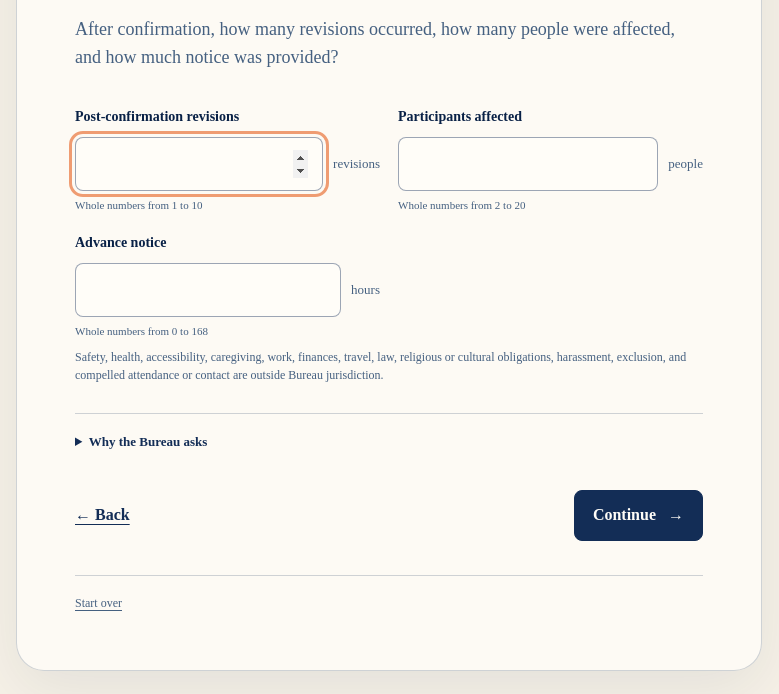
it: filing journey › shows exact whole-number ranges for Social Planning evidence
(page scrolled)
Expected: the text "Whole numbers from 0 to 168" is shown, left=75, top=325, right=208, bottom=337
Type "0.5" into the number field labelled "Advance notice hours Whole numbers from 0 to 168" at [208, 290], box left=75, top=263, right=341, bottom=317
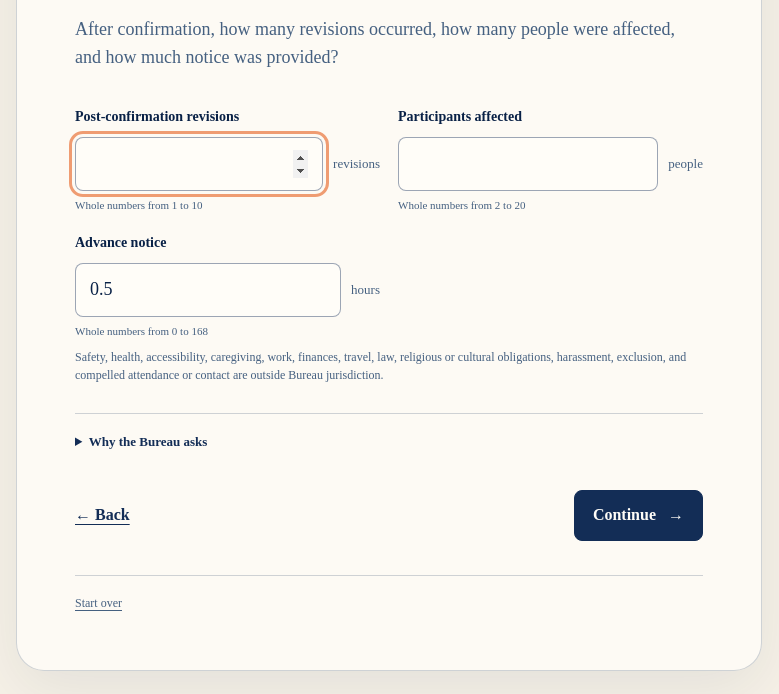
Click the button "Continue →" at [638, 515], box left=574, top=490, right=703, bottom=541
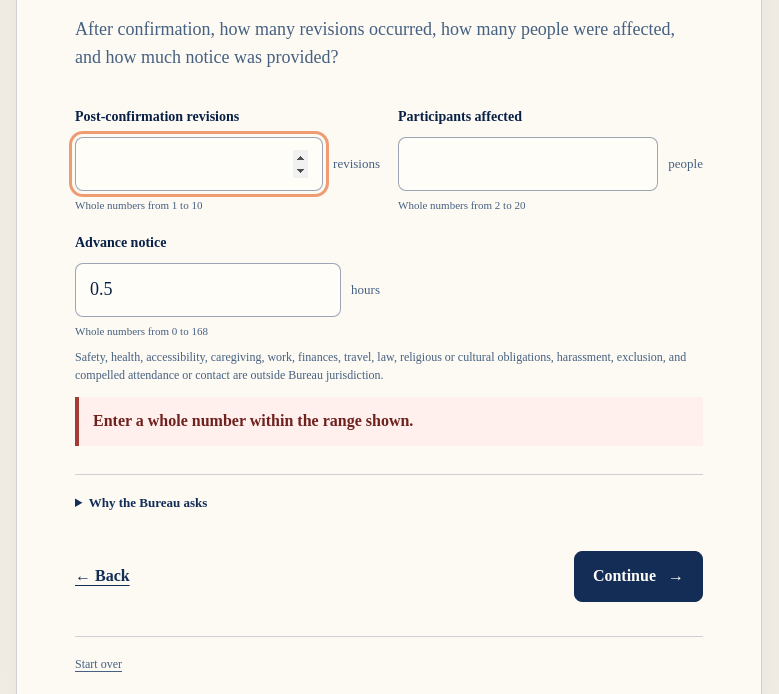
Expected: the message reads "Enter a whole number within the range shown.", left=93, top=412, right=413, bottom=429
